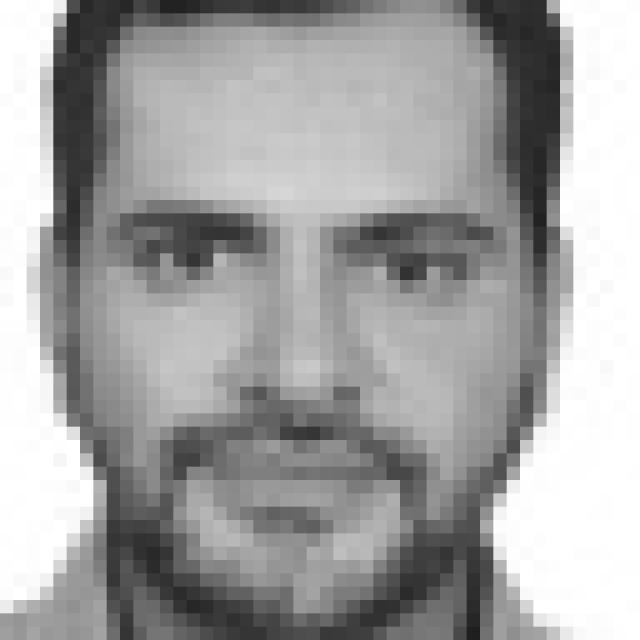neutral: (113, 195, 510, 538)
